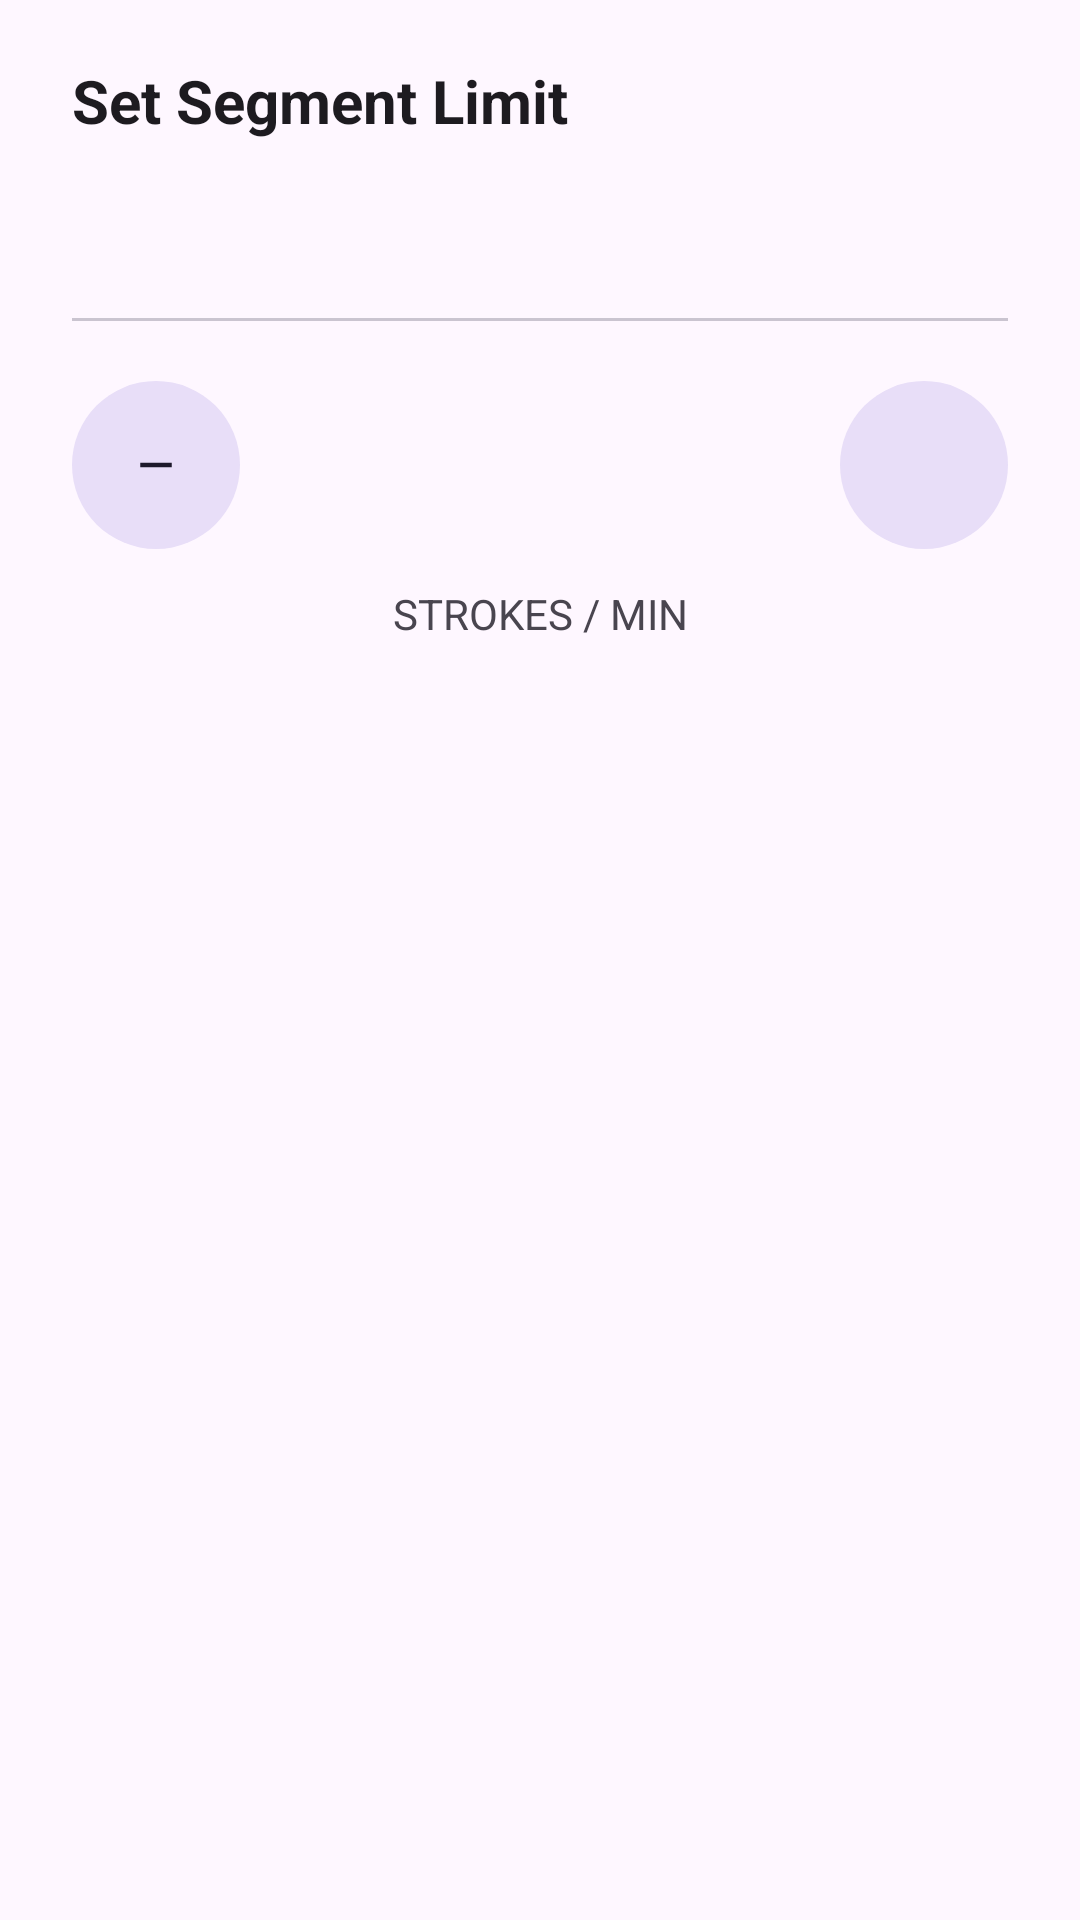

Named icons in this screenshot (1080 × 1920) and their centers, (x=x, y=y):
Decrease: (x=156, y=465)
